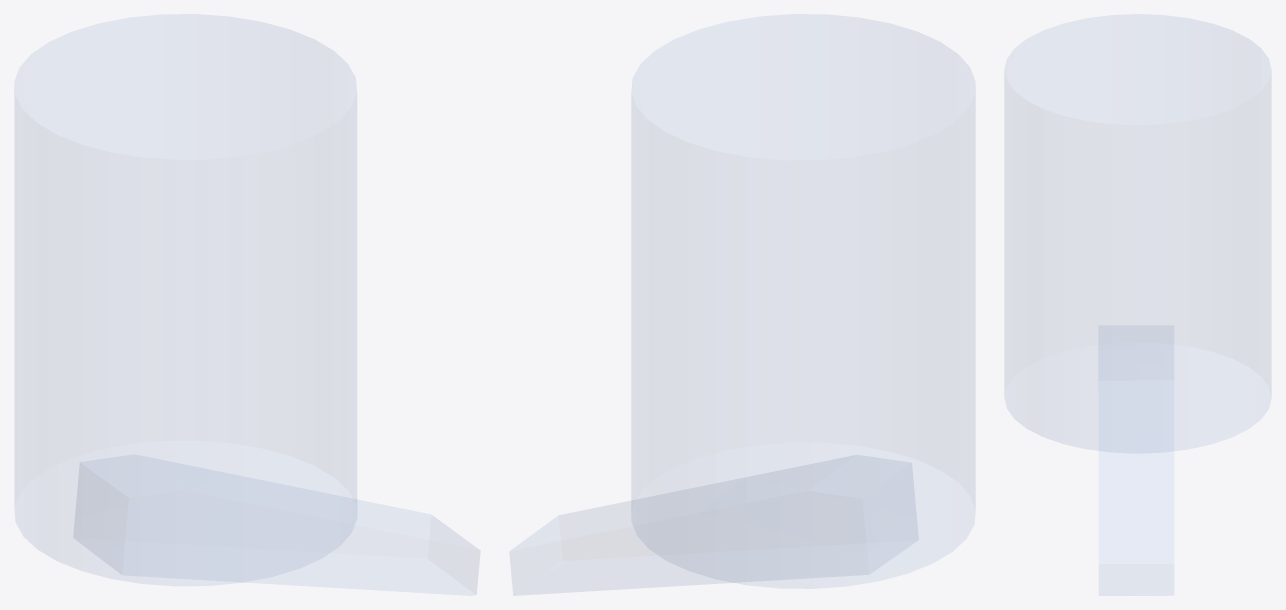
File: SprinklesContainer.obj
The picture shows the model from 3 angles, left to right: view 1: azimuth 30°, elevation 25°; view 2: azimuth 150°, elevation 25°; view 3: azimuth 270°, elevation 25°; orthographic projection. The views are drawn at different scales.
Parts seen in each view (by area): view 1: Sprikles_kontejner, Tunel_za_sprinkles; view 2: Sprikles_kontejner, Tunel_za_sprinkles; view 3: Sprikles_kontejner, Tunel_za_sprinkles.
Boxes of the visible parts, left/top/right/bottom form: Sprikles_kontejner: left=15, top=14, right=356, bottom=585; Tunel_za_sprinkles: left=75, top=455, right=479, bottom=595; Sprikles_kontejner: left=632, top=14, right=974, bottom=588; Tunel_za_sprinkles: left=510, top=455, right=916, bottom=595; Sprikles_kontejner: left=1005, top=14, right=1270, bottom=452; Tunel_za_sprinkles: left=1099, top=326, right=1173, bottom=595.
Bounding box in the file's own units: 1.12 × 1.43 × 0.8094.
2 materials, 2 textured.
